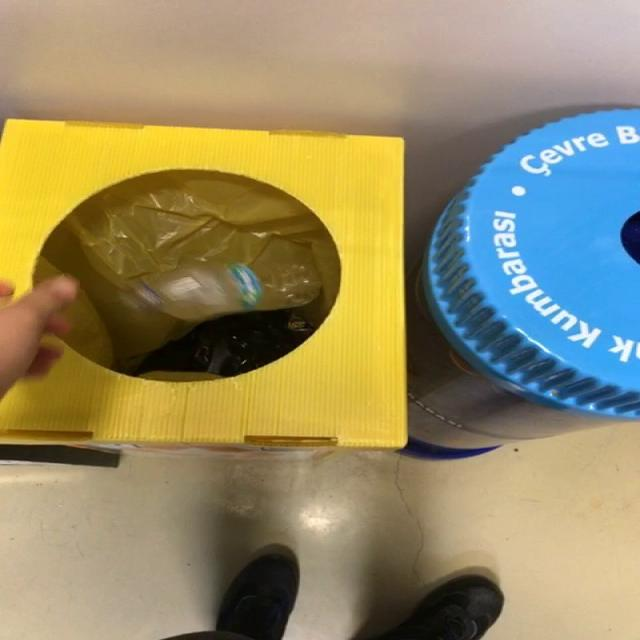plastic: (136, 263, 320, 324)
